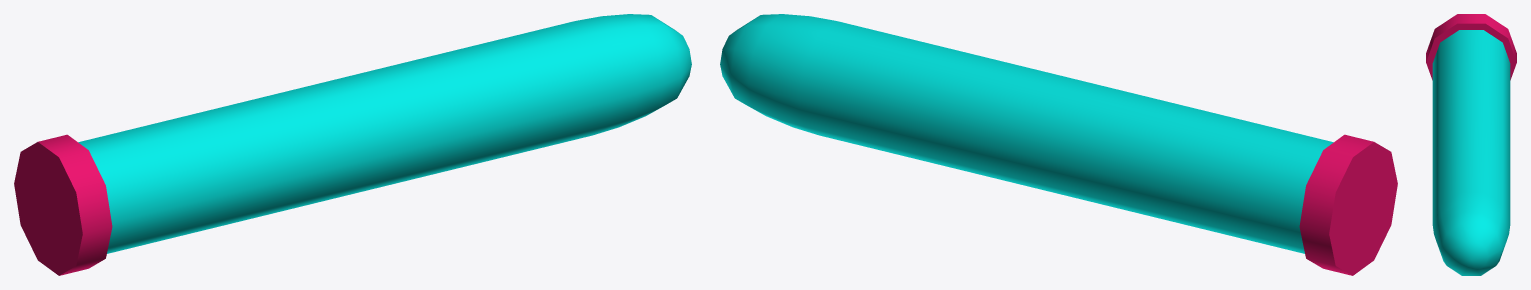
Rendered from Vile.fbx.
The picture shows the model from 3 angles, left to right: view 1: azimuth 30°, elevation 25°; view 2: azimuth 150°, elevation 25°; view 3: azimuth 270°, elevation 25°; orthographic projection. The views are drawn at different scales.
Parts seen in each view (by area): view 1: Cylinder.150; view 2: Cylinder.150; view 3: Cylinder.150.
Boxes of the visible parts, left/top/right/bottom form: Cylinder.150: left=14, top=14, right=691, bottom=275; Cylinder.150: left=720, top=14, right=1397, bottom=275; Cylinder.150: left=1426, top=14, right=1516, bottom=275.
Size of the model in its own units: 0.3209 by 0.0567 by 0.0597.
